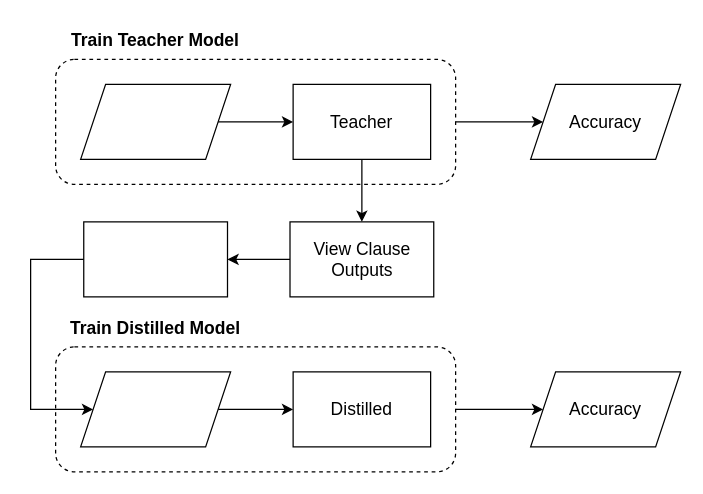
Some shapes in this 703 by 494 pixel diagram are drawn without their labels. Here are the shapes that lost their labels. From the top down, the box of each, then its label:
(79, 83, 231, 159): Input Data
(82, 221, 228, 297): Downsample Clauses
(79, 371, 231, 447): Input Clauses
